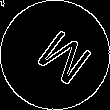M_SW: (21, 21, 89, 89)
